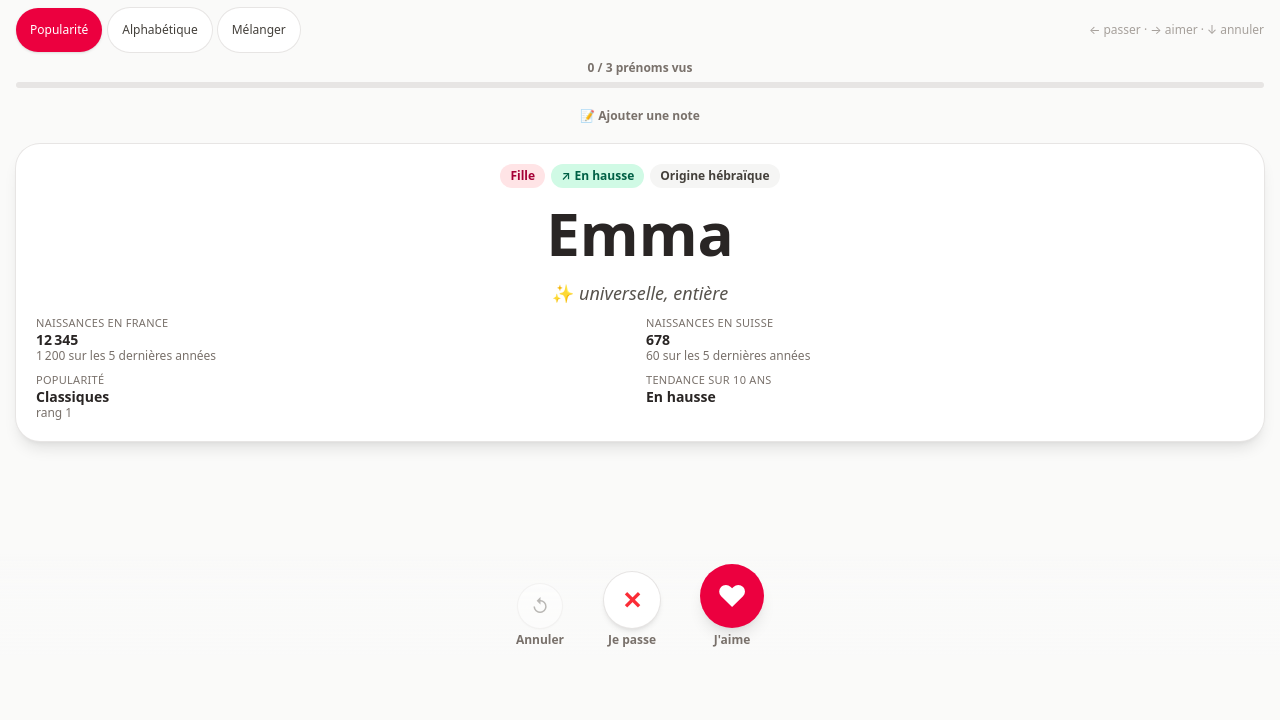
Test: SwipePage › skips with the button and restores the card with « Annuler »
The image size is (1280, 720).
Expected: the heading "Emma" is shown, [546, 196, 734, 271]
Expected: the button named "Annuler la dernière décision" is disabled, [518, 584, 562, 628]
Click the button named "Je passe": (632, 600) [604, 572, 660, 628]
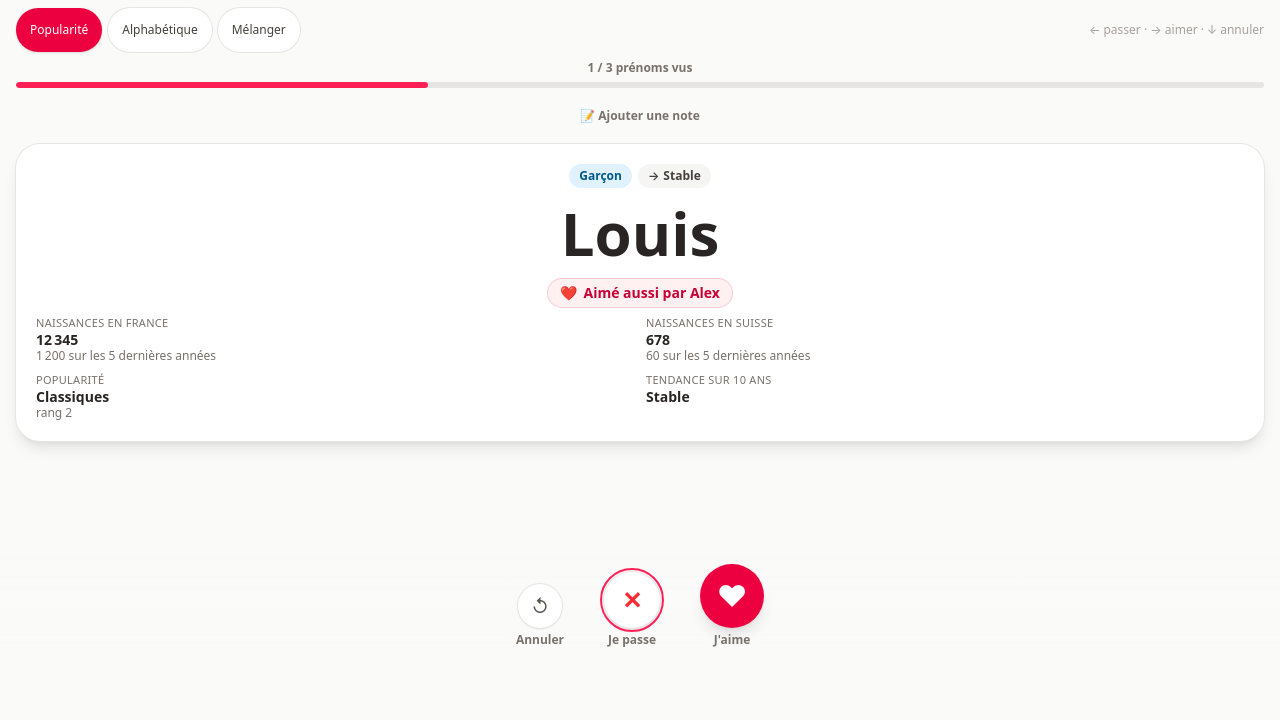
Expected: the heading "Louis" is shown, [561, 196, 719, 271]
Click the button named "Annuler la dernière décision": (540, 606) [518, 584, 562, 628]
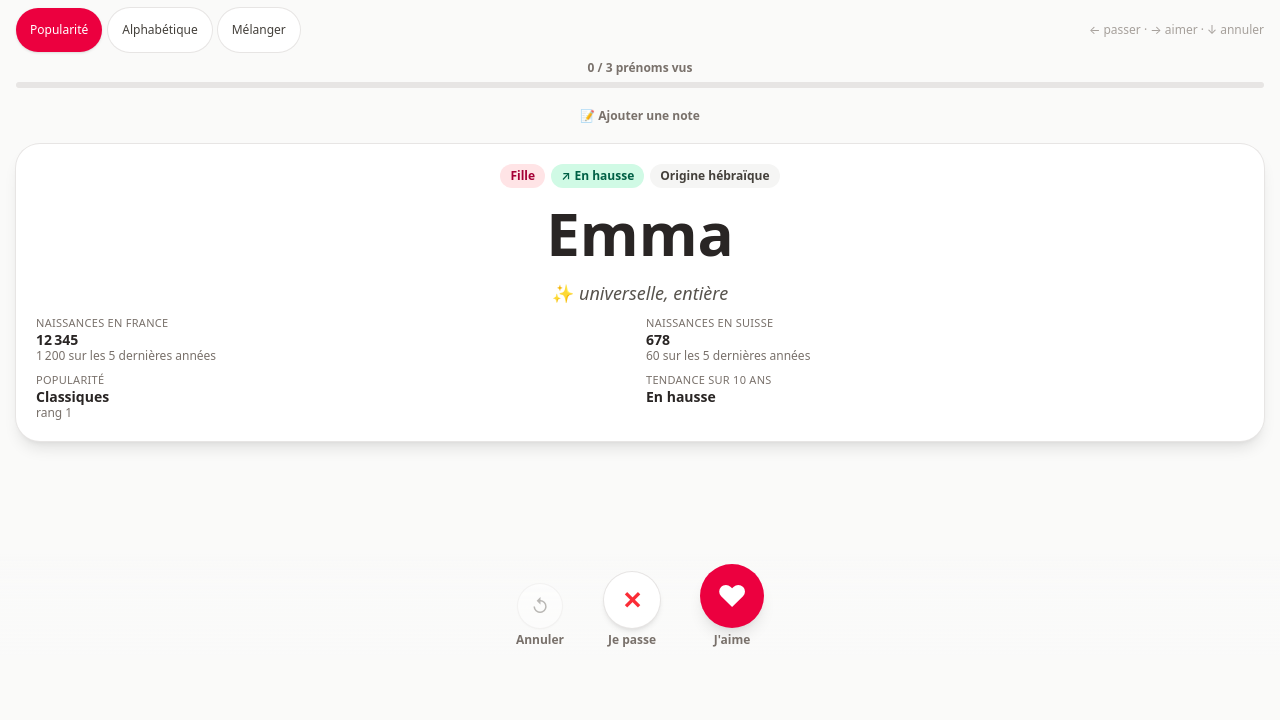
Expected: the heading "Emma" is shown, [546, 196, 734, 271]
Expected: the button named "Annuler la dernière décision" is disabled, [518, 584, 562, 628]
